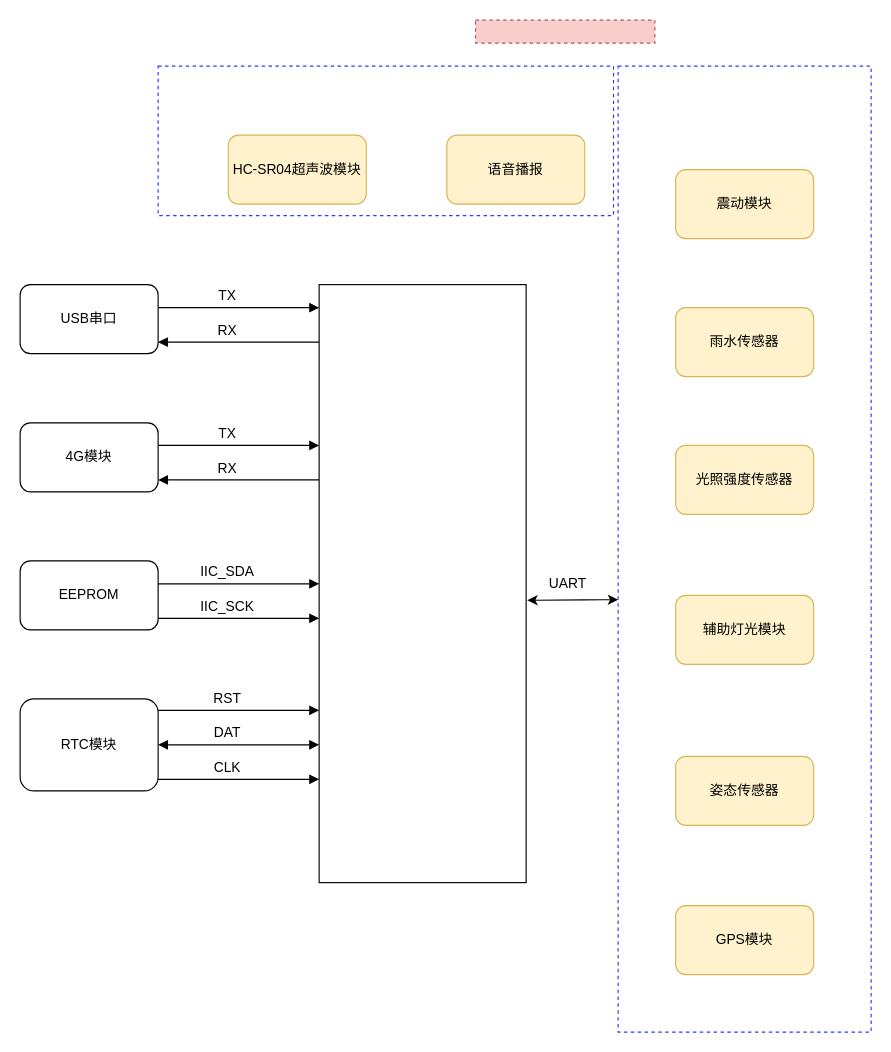
The diagram is 891 pixels wide and 1052 high, and some of its shapes have lost their labels. Each missing label, with the centre of its shape:
MCU STM32F103RCT6: (x=422, y=583)
Test Board ——融合模组: (x=564, y=31)
